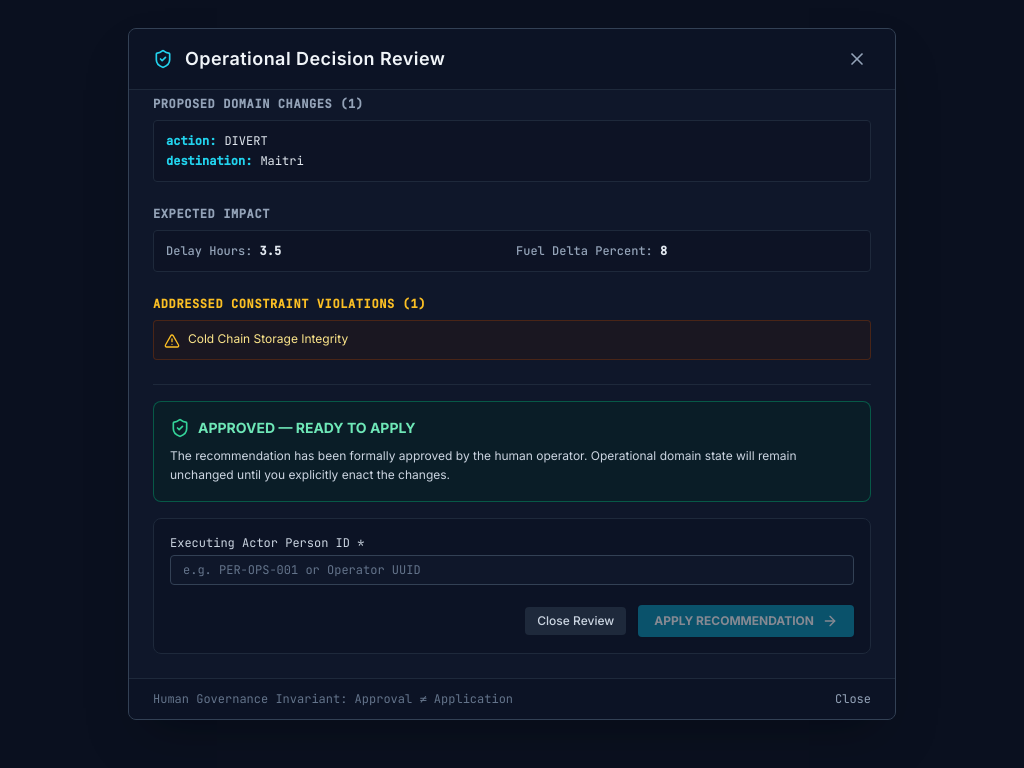
Test case: ApprovalModal › displays application failure without losing approval state
(page scrolled)
Expected: the text "APPROVED — READY TO APPLY" is shown, [198,418,416,438]
Type "PER-OPERATOR-1" into the field with test id "apply-actor-person-id-input".
click(512, 570); type("PER-OPERATOR-1")  # box [170,555,854,585]
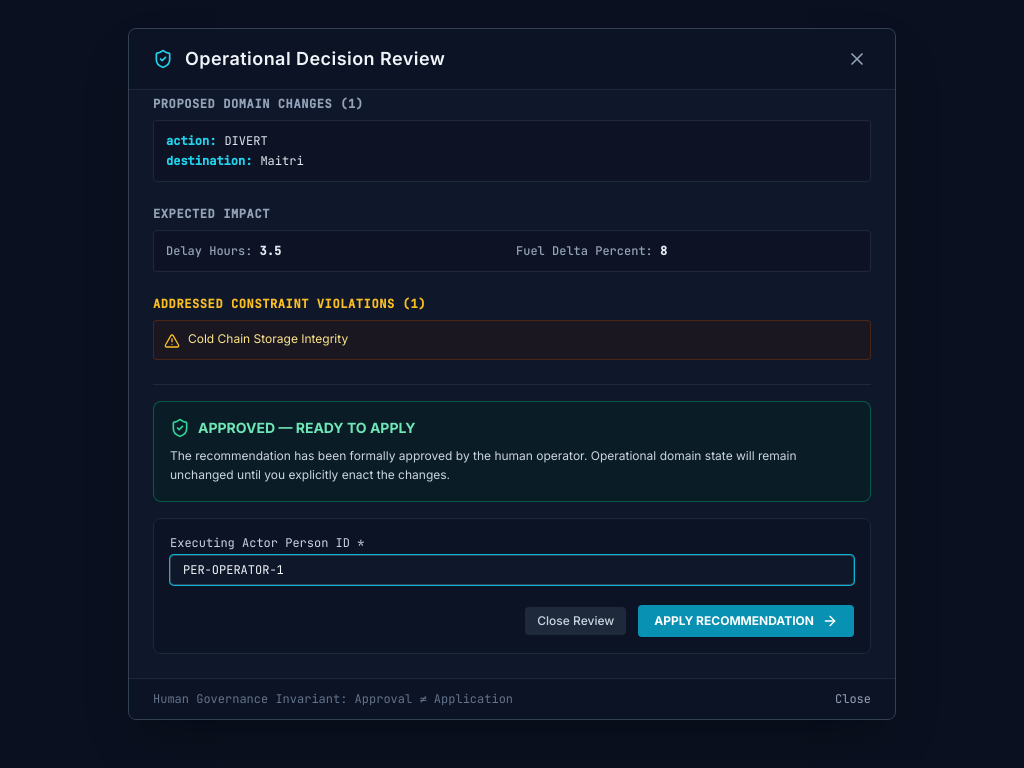
Click the button "APPLY RECOMMENDATION".
click(746, 621)  # box [638,605,854,637]
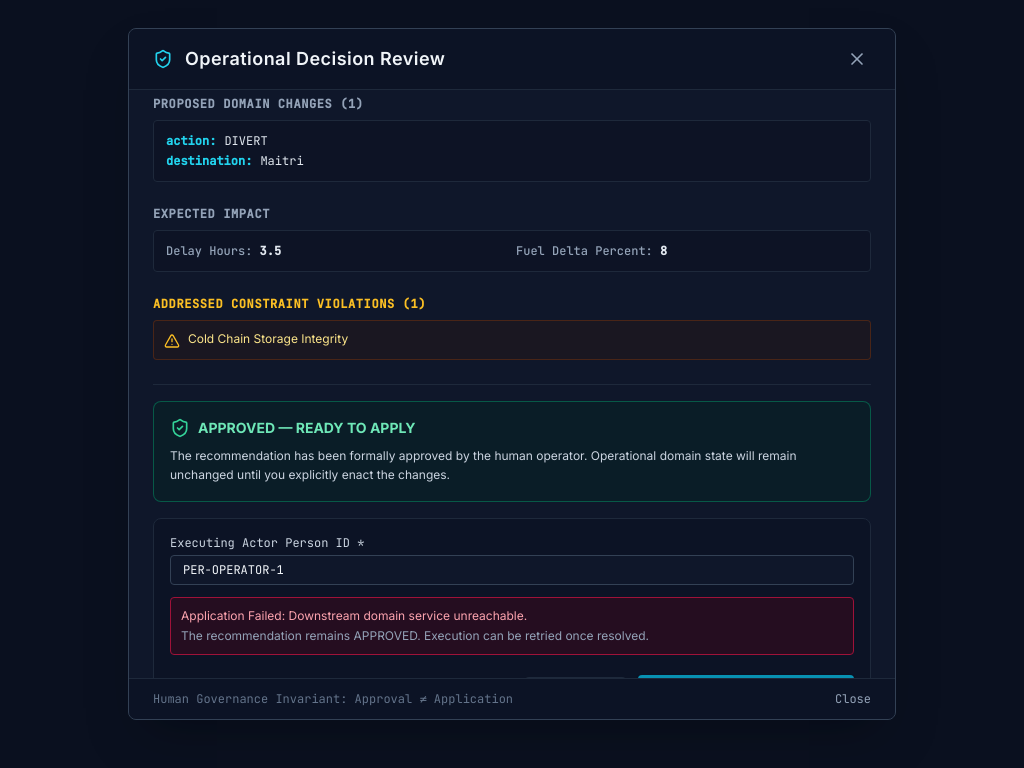
Expected: the text "APPROVED — READY TO APPLY" is shown, [198,418,416,438]
Result: the text "Application Failed: Downstream domain service unreachable" is shown at [170,597,854,655]
